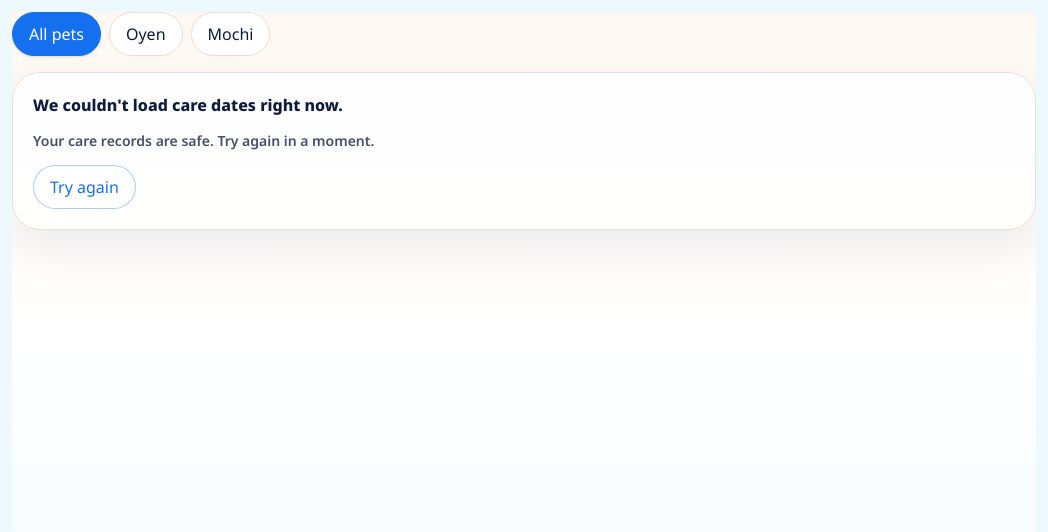
Scenario: The care planner › never shows a failed read as nothing due, and can try again
Expected: the text "We couldn't load care dates right now." is shown, [33,94,343,116]
Click the button "Try again": (84, 187) [33,165,136,209]
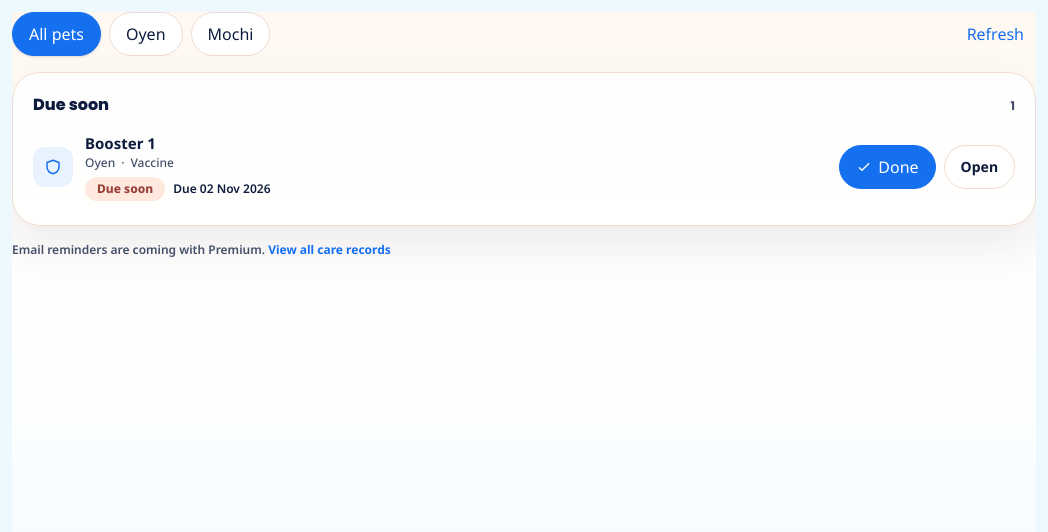
Now the text "Booster 1" is shown, box [85,133,156,153]
